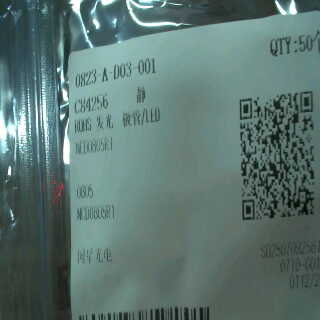LED: (92, 106, 164, 133)
